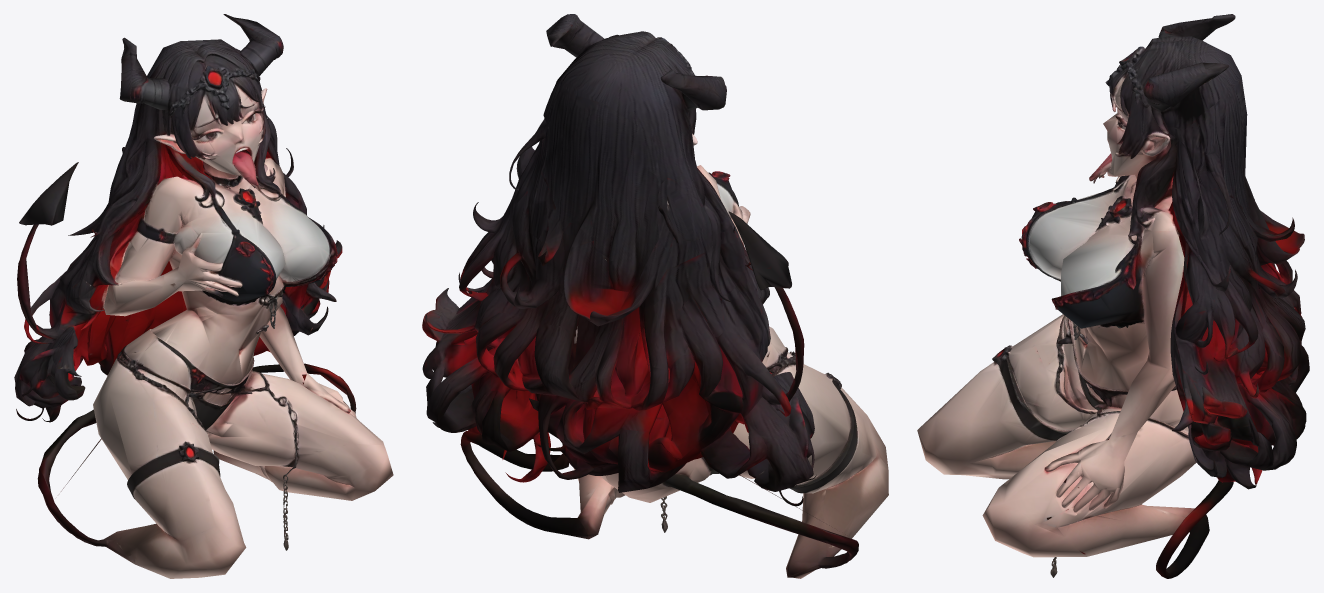
File: 01a1a2e3-2103-7a98-9cec-f58abbffc88a.glb
The picture shows the model from 3 angles, left to right: view 1: azimuth 30°, elevation 25°; view 2: azimuth 150°, elevation 25°; view 3: azimuth 270°, elevation 25°; orthographic projection. The views are drawn at different scales.
Parts seen in each view (by area): view 1: model; view 2: model; view 3: model.
Part boxes in pixels (box(x1,y1,x2,y2)): model: box(14, 14, 393, 578); model: box(422, 14, 888, 578); model: box(917, 14, 1309, 578).
Size of the model in its own units: 1.37 by 1.9 by 1.29.
1 material, 1 textured.
